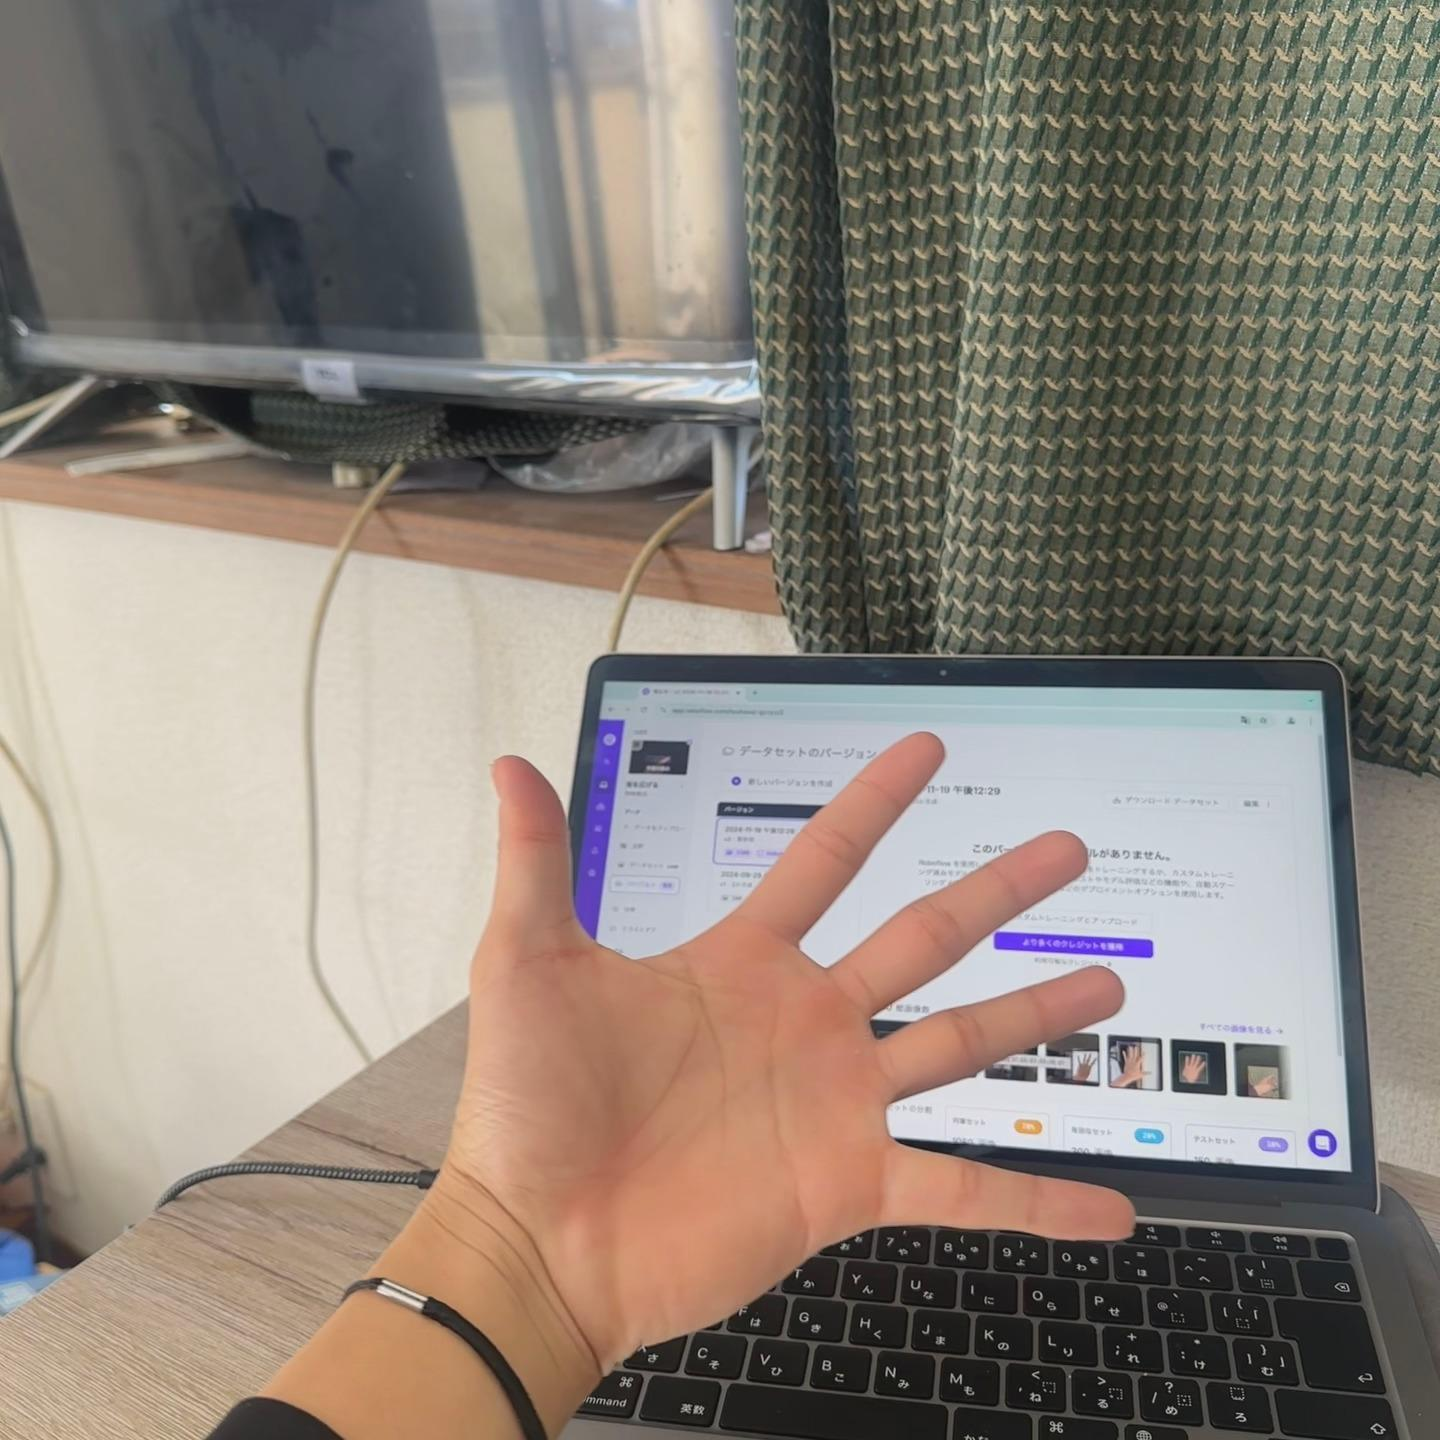without_gloves: (319, 550, 1278, 1440)
